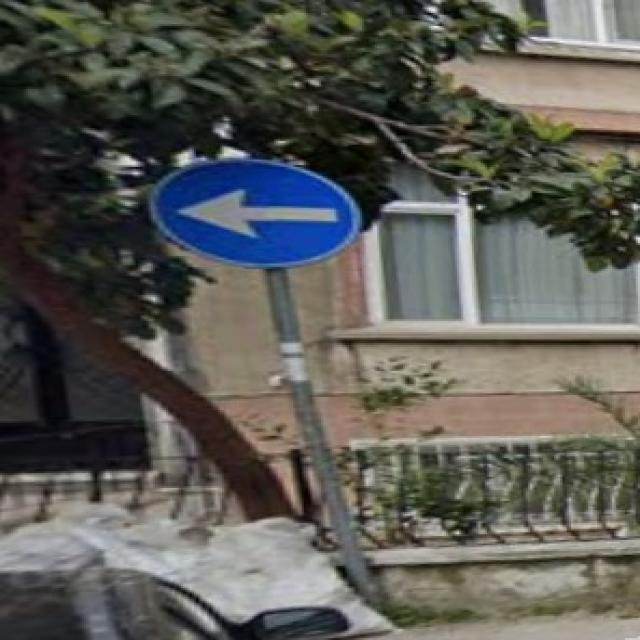Turn Left: (143, 165, 370, 262)
